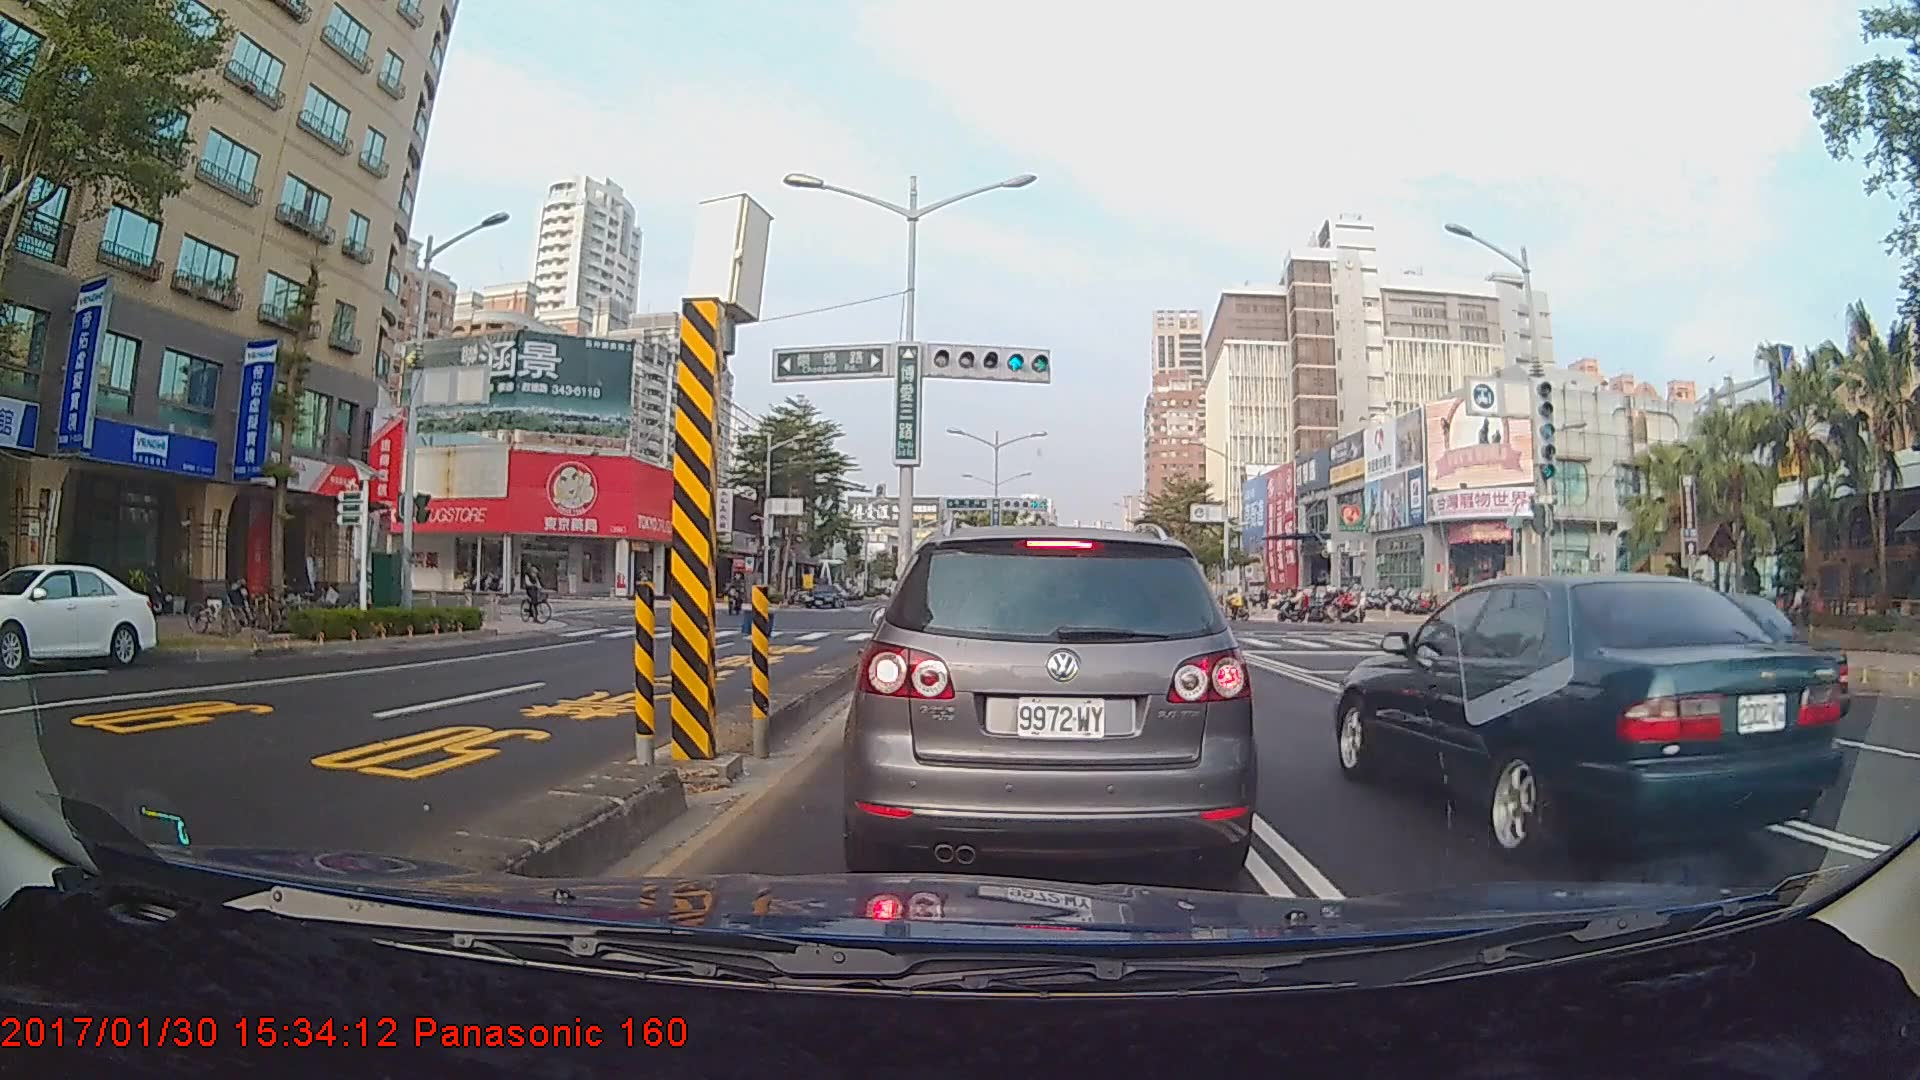pedestrian: (1789, 578, 1815, 646)
rider: (518, 559, 561, 629)
vehicle: (1332, 567, 1843, 864), (855, 522, 1245, 879), (0, 561, 160, 671), (807, 585, 845, 610)
